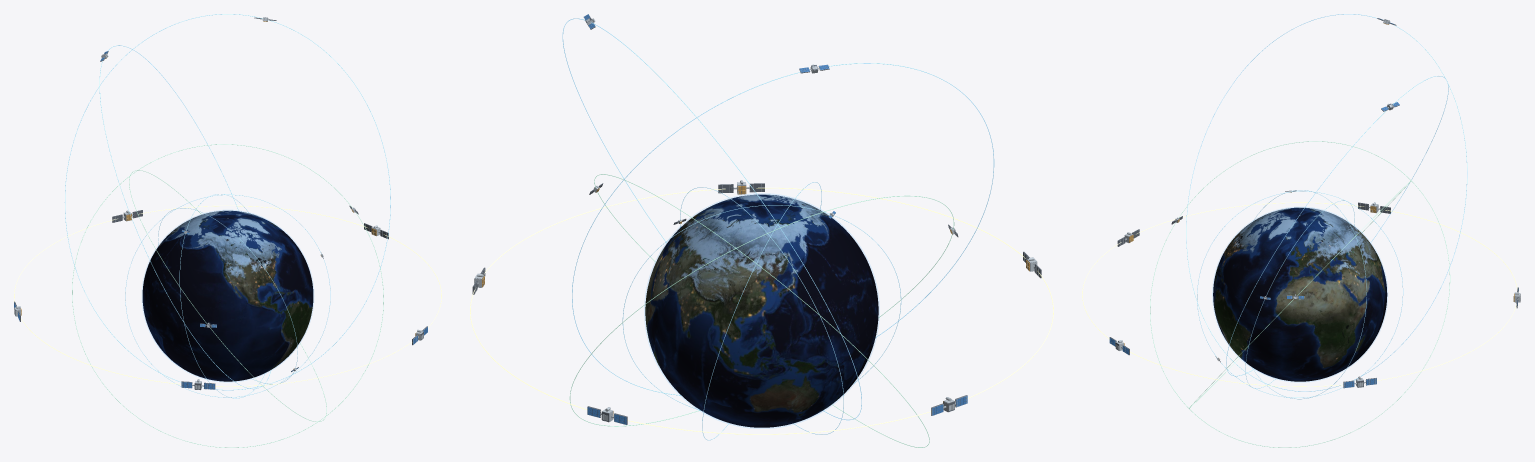
The model's file is earth-orbits.glb.
3 views of the same model, side by side, from view 1: azimuth 30°, elevation 25°; view 2: azimuth 150°, elevation 25°; view 3: azimuth 270°, elevation 25° (orthographic). The views are drawn at different scales.
Visible parts, largest first — view 1: earth, heo-orbit-01, geo-orbit, meo-orbit-01, heo-orbit-02, leo-orbit-01, meo-orbit-02; view 2: earth, geo-orbit, heo-orbit-02, heo-orbit-01, meo-orbit-02, meo-orbit-01, leo-orbit-02; view 3: earth, geo-orbit, heo-orbit-02, meo-orbit-02, leo-orbit-03, heo-orbit-01.
Boxes of the visible parts, bbox=[...] form: earth: bbox=[142, 210, 313, 381]; heo-orbit-01: bbox=[64, 14, 390, 390]; geo-orbit: bbox=[14, 205, 441, 386]; meo-orbit-01: bbox=[72, 144, 383, 447]; heo-orbit-02: bbox=[99, 45, 270, 389]; leo-orbit-01: bbox=[125, 194, 330, 397]; meo-orbit-02: bbox=[129, 170, 326, 421]; earth: bbox=[645, 194, 878, 427]; geo-orbit: bbox=[470, 187, 1053, 434]; heo-orbit-02: bbox=[572, 63, 994, 395]; heo-orbit-01: bbox=[562, 18, 861, 420]; meo-orbit-02: bbox=[569, 195, 954, 426]; meo-orbit-01: bbox=[594, 174, 929, 447]; leo-orbit-02: bbox=[622, 205, 901, 410]; earth: bbox=[1213, 207, 1387, 381]; geo-orbit: bbox=[1082, 202, 1517, 386]; heo-orbit-02: bbox=[1186, 14, 1467, 391]; meo-orbit-02: bbox=[1150, 141, 1450, 447]; leo-orbit-03: bbox=[1197, 191, 1403, 397]; heo-orbit-01: bbox=[1226, 76, 1448, 376].
Bounding box in the file's own units: 5.01 × 4.4 × 5.04.
Materials: 10 (1 with a texture image).
